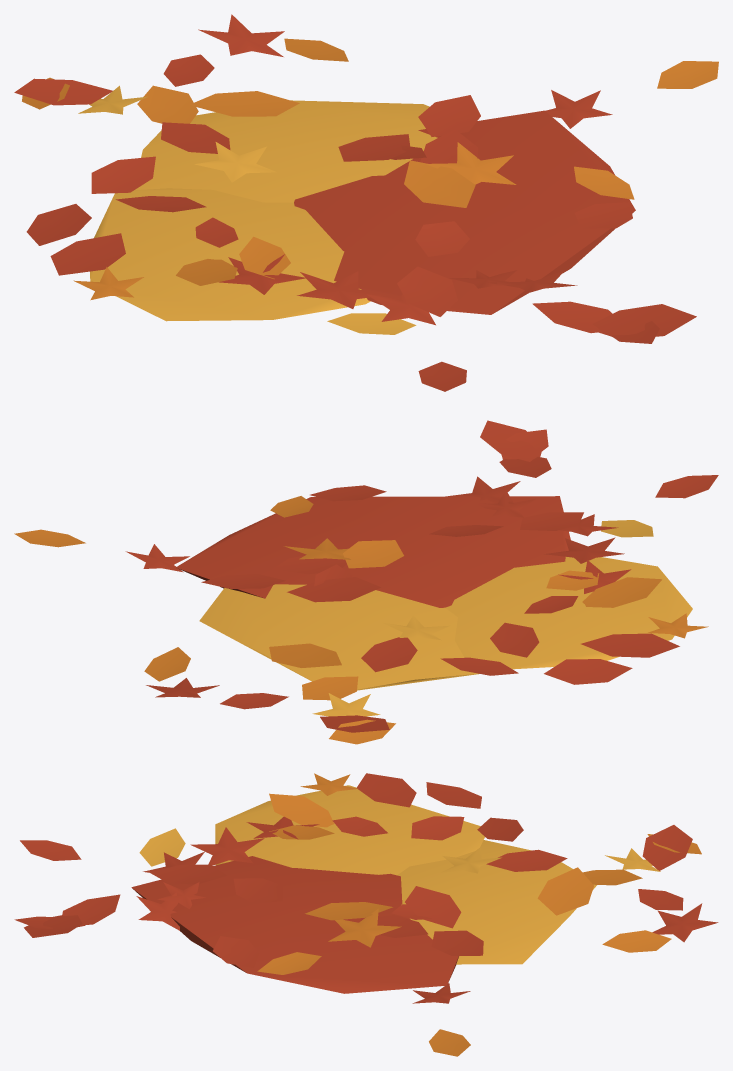
The model's file is leaf_patch_c.glb.
3 renders of one model, top to bottom at view 1: azimuth 30°, elevation 25°; view 2: azimuth 150°, elevation 25°; view 3: azimuth 270°, elevation 25°, orthographic. The views are drawn at different scales.
Visible parts, largest first — view 1: leaf_patch_c_base, leaf_patch_c_leaves; view 2: leaf_patch_c_base, leaf_patch_c_leaves; view 3: leaf_patch_c_base, leaf_patch_c_leaves.
Part boxes in pixels (x1,y1,x2,y2): leaf_patch_c_base: (90, 100, 635, 321); leaf_patch_c_leaves: (14, 14, 718, 391); leaf_patch_c_base: (176, 496, 692, 690); leaf_patch_c_leaves: (14, 420, 718, 744); leaf_patch_c_base: (131, 785, 596, 993); leaf_patch_c_leaves: (14, 773, 718, 1056).
Size of the model in its own units: 0.9789 by 0.0369 by 1.03.
